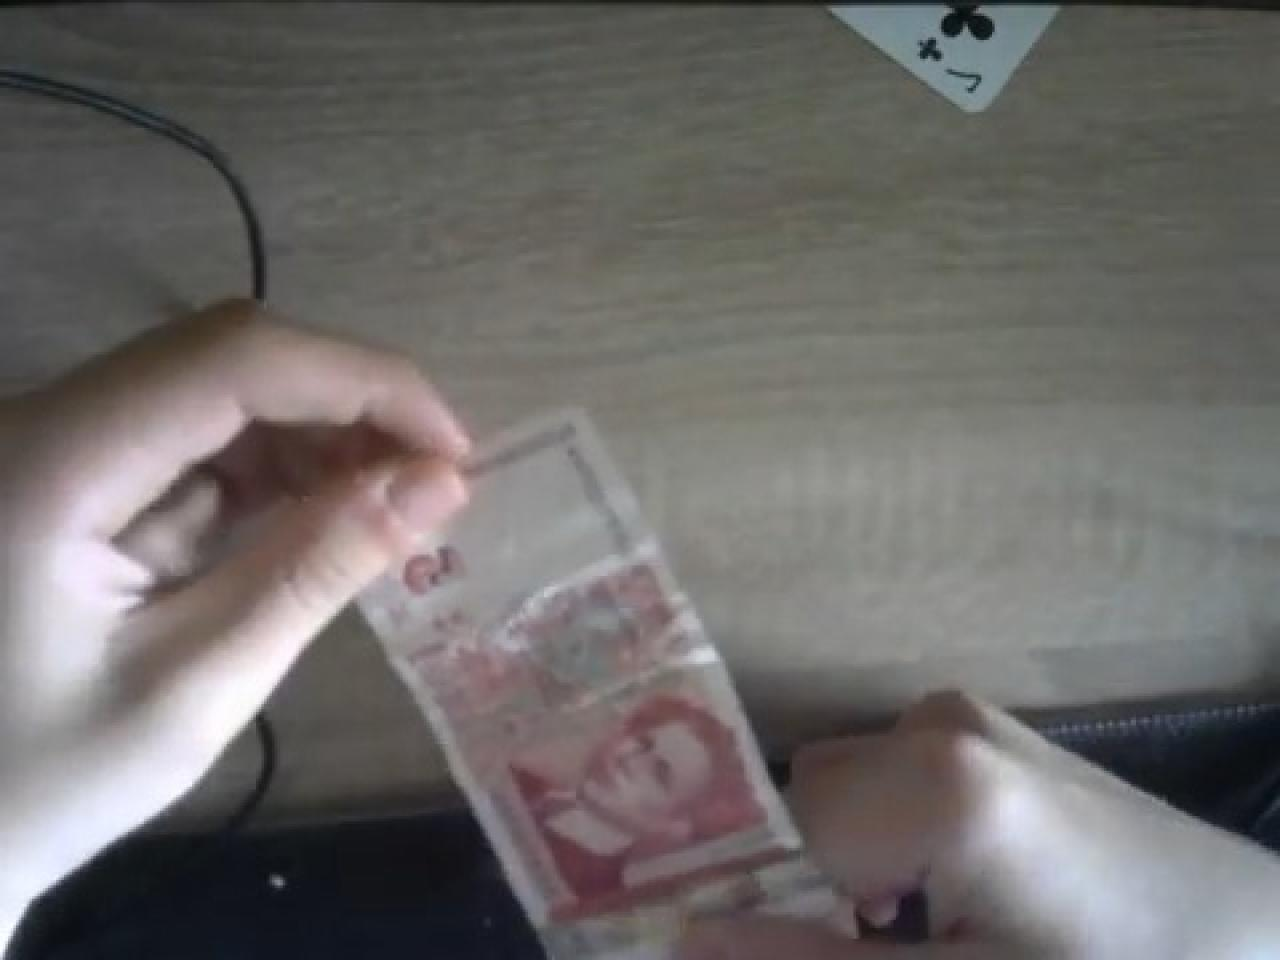5leva: (355, 405, 848, 960)
